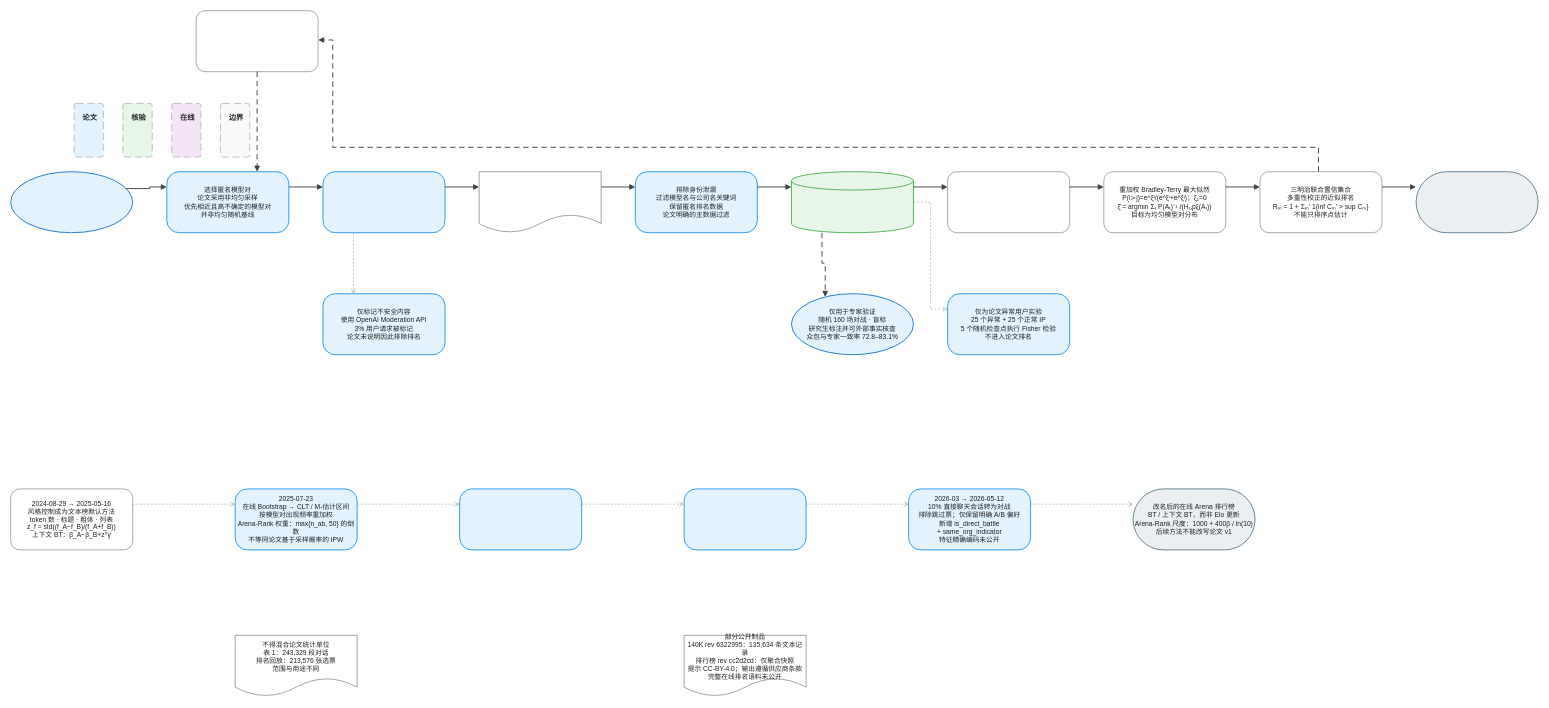
Some shapes in this 1549 by 708 pixel diagram are drawn without their labels. The shapes that lost their labels are listed below. From the top down, each one's centre as x and y in pixels, then its label:
(257,41): 主动采样反馈 Pₜ(a) ∝ √(Σ̂ₜ,ₐₐ / nₜ(a)) − √(Σ̂ₜ,ₐₐ / (nₜ(a)+1)) 按预期区间宽度下降采样
(71,202): 接受条款并提交实时提示 同意数据发布条款 不预设问题或固定评分量表 开放式多轮输入
(383,202): 并排模型对战 向两模型发送相同对话轮次 对战期间隐藏模型身份 用户无法判断时继续对话
(539,202): 记录一条人工偏好 模型 A · 模型 B · 平局 · 两者都差 投票后才揭示模型身份 保存两侧对话与选票
(852,202): 论文表 1 快照 2024-01-21 · 243,329 段对话 50 个模型 · 90,051 位用户 149 种语言 · 平均 1.3 轮
(1008,202): IPW 获胜矩阵估计 θ̂_T(a) = T⁻¹ Σₜ Hₜ 1{Aₜ=a}/Pₜ(a) 校正非均匀模型对采样 论文排名回放：213,576 张选票
(1476,202): 发布论文时期排名 BT 系数 · 获胜矩阵 置信区间 · 近似排名 早期界面 Elo 并非该估计器
(520,519): 2025-07-14 → 2025-10-04 加强去重与身份泄漏检查 增加统计异常用户过滤 移除模型与自身对战记录 精确去重 / 异常算法未公开
(744,519): 2026-04-30 上榜政策 仅展示已公开可用模型 排名稳定且至少收集 1,000 张选票 每场至少包含一个公开模型 至少 20% 为公开模型之间对战
